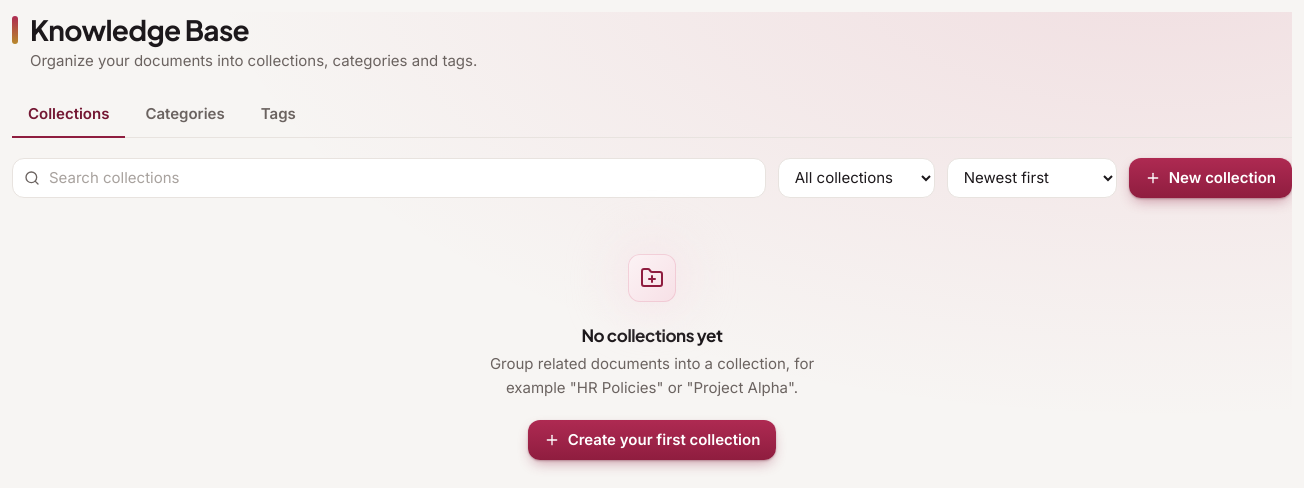
Test: KnowledgeBase collections › switches to the categories tab
Click the tab "Categories".
click(185, 115)  # box [129,92,241,138]
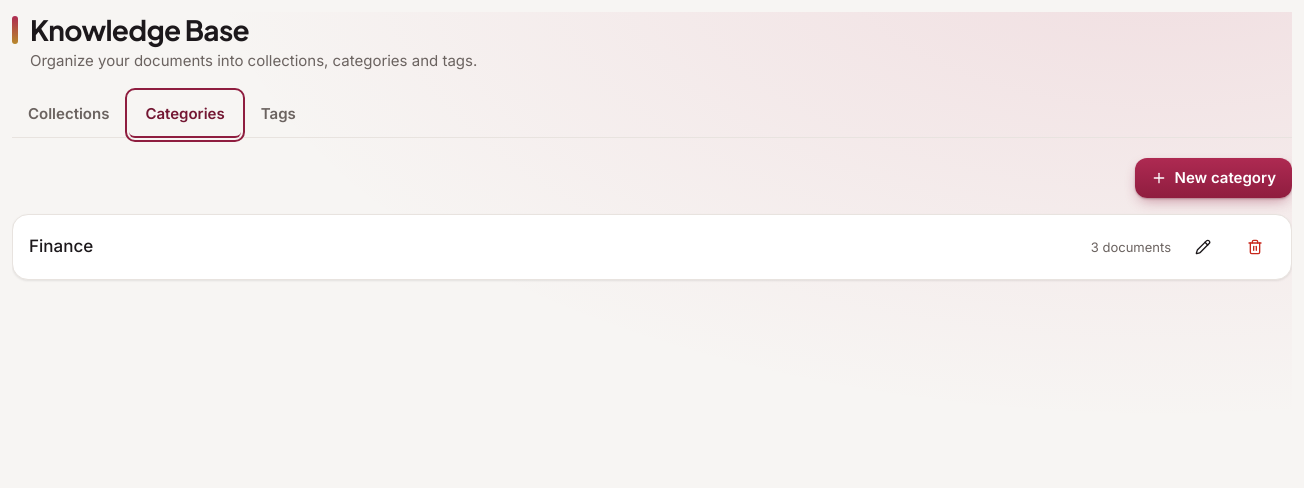
expect the text "Finance" is shown: met, box [29,236,93,256]
expect the text "3 documents" is shown: met, box [1091,237,1171,257]
